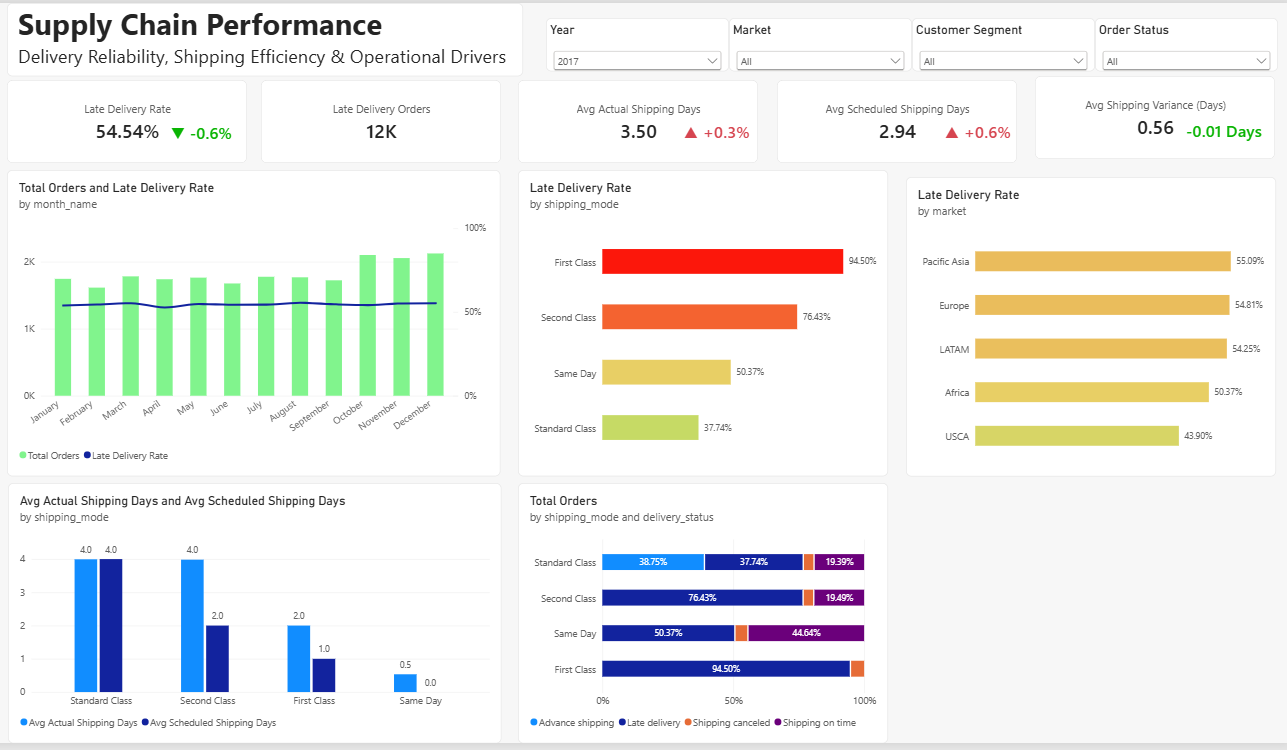

Layout of this report page (visuals, bound fields, positions):
{"tool":"powerbi","page":{"name":"Supply Chain Performance","canvas":[1920,1080],"ordinal":2},"visuals":[{"type":"slicer","title":"Year","fields":{"Values":["dim_date.year","dim_date.month_name"]},"box":[835,21.7,266.7,78.3],"z":0},{"type":"slicer","title":"Market","fields":{"Values":["dim_category.category_name"]},"box":[1101.7,21.7,266.7,78.3],"z":1000},{"type":"slicer","title":"Customer Segment","fields":{"Values":["dim_department.department_name"]},"box":[1368.3,21.7,266.7,78.3],"z":2000},{"type":"slicer","title":"Order Status","fields":{"Values":["dim_product.product_name"]},"box":[1635,21.7,266.7,78.3],"z":3000},{"type":"textbox","box":[48.3,0,753.3,106.7],"z":4000},{"type":"cardVisual","fields":{"Data":["_measures.Avg Shipping Variance (Days)"]},"box":[1548.3,106.7,350,121.7],"z":5000},{"type":"cardVisual","fields":{"Data":["_measures.Late Delivery Orders"]},"box":[418.3,111.7,350,121.7],"z":6000},{"type":"cardVisual","fields":{"Data":["_measures.Avg Actual Shipping Days"]},"box":[793.3,111.7,350,121.7],"z":6000,"group":"g1"},{"type":"group","id":"g1","title":"Group 3","box":[793.3,111.7,350,121.7],"z":7000},{"type":"cardVisual","fields":{"Data":["_measures.Avg Scheduled Shipping Days"]},"box":[1171.7,111.7,350,121.7],"z":7000,"group":"g2"},{"type":"cardVisual","fields":{"Data":["_measures.Late Delivery Rate"]},"box":[48.3,111.7,350,121.7],"z":8000,"group":"g3"},{"type":"group","id":"g2","title":"Group 4","box":[1171.7,111.7,350,121.7],"z":8000},{"type":"group","id":"g3","title":"Group 5","box":[48.3,111.7,350,121.7],"z":9000},{"type":"cardVisual","fields":{"Data":["_measures.Avg Shipping Variance YoY Difference"]},"box":[1768.3,155,130,60],"z":10000},{"type":"lineClusteredColumnComboChart","fields":{"Category":["dim_date.month_name"],"Y2":["_measures.Late Delivery Rate"],"Y":["_measures.Total Orders"]},"box":[48.6,243.1,719.7,447.4],"z":11000},{"type":"clusteredBarChart","fields":{"Category":["dim_shipping.shipping_mode"],"Y":["_measures.Late Delivery Rate"]},"box":[793.3,243.1,540.4,447.4],"z":12000},{"type":"clusteredBarChart","fields":{"Y":["_measures.Late Delivery Rate"],"Category":["dim_destination.market"]},"box":[1359.1,253.6,539.7,437.3],"z":13000},{"type":"clusteredColumnChart","fields":{"Category":["dim_shipping.shipping_mode"],"Y":["_measures.Avg Actual Shipping Days","_measures.Avg Scheduled Shipping Days"]},"box":[49,700,720,380],"z":14000},{"type":"hundredPercentStackedBarChart","fields":{"Category":["dim_shipping.shipping_mode"],"Y":["_measures.Total Orders"],"Series":["dim_delivery_status.delivery_status"]},"box":[793,700,540,380],"z":15000},{"type":"cardVisual","fields":{"Data":["_measures.Avg Shipping Days YoY Change"]},"box":[1035,155,108.3,60],"z":15003,"group":"g1"},{"type":"cardVisual","fields":{"Data":["_measures.Avg Scheduled Shipping Days YoY Change"]},"box":[1416.7,155,105,60],"z":15004,"group":"g2"},{"type":"cardVisual","fields":{"Data":["_measures.Late Delivery Rate YoY Change"]},"box":[287.2,158.9,103.3,56.7],"z":15005,"group":"g3"}]}

Visuals, with their boxes on the page's 1920x1080 design canvas (x1, y1, x2, y2). These are canvas units, not pixel positions in the 1287x750 screenshot, which may show the page scaled, cropped or inside an application window:
"Year" slicer: 835:22:1102:100
"Market" slicer: 1102:22:1368:100
"Customer Segment" slicer: 1368:22:1635:100
"Order Status" slicer: 1635:22:1902:100
textbox: 48:0:802:107
cardVisual - _measures.Avg Shipping Variance (Days): 1548:107:1898:228
cardVisual - _measures.Late Delivery Orders: 418:112:768:233
cardVisual - _measures.Avg Actual Shipping Days: 793:112:1143:233
"Group 3" group: 793:112:1143:233
cardVisual - _measures.Avg Scheduled Shipping Days: 1172:112:1522:233
cardVisual - _measures.Late Delivery Rate: 48:112:398:233
"Group 4" group: 1172:112:1522:233
"Group 5" group: 48:112:398:233
cardVisual - _measures.Avg Shipping Variance YoY Difference: 1768:155:1898:215
lineClusteredColumnComboChart - dim_date.month_name x _measures.Late Delivery Rate: 49:243:768:690
clusteredBarChart - dim_shipping.shipping_mode x _measures.Late Delivery Rate: 793:243:1334:690
clusteredBarChart - _measures.Late Delivery Rate x dim_destination.market: 1359:254:1899:691
clusteredColumnChart - dim_shipping.shipping_mode x _measures.Avg Actual Shipping Days: 49:700:769:1080
hundredPercentStackedBarChart - dim_shipping.shipping_mode x _measures.Total Orders: 793:700:1333:1080
cardVisual - _measures.Avg Shipping Days YoY Change: 1035:155:1143:215
cardVisual - _measures.Avg Scheduled Shipping Days YoY Change: 1417:155:1522:215
cardVisual - _measures.Late Delivery Rate YoY Change: 287:159:390:216
